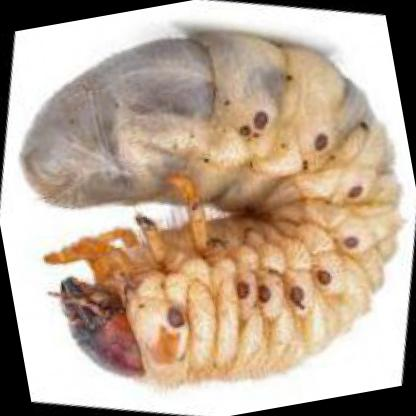root grubs: (24, 37, 404, 389)
